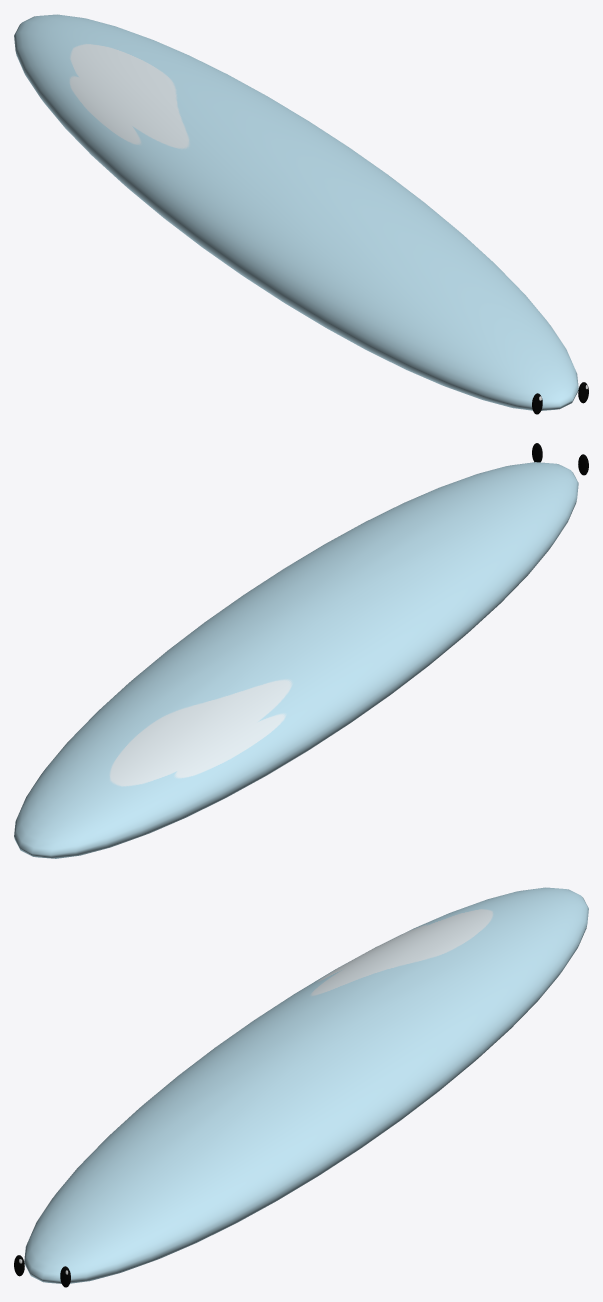
File: new_run.fbx
3 renders of one model, top to bottom at view 1: azimuth 30°, elevation 25°; view 2: azimuth 150°, elevation 25°; view 3: azimuth 330°, elevation 25°, orthographic.
Visible parts, largest first — view 1: pCylinder3; view 2: pCylinder3; view 3: pCylinder3.
Boxes of the visible parts, bbox=[...] form: pCylinder3: bbox=[14, 14, 588, 414]; pCylinder3: bbox=[14, 443, 588, 858]; pCylinder3: bbox=[14, 887, 588, 1287].
Size of the model in its own units: 2.65 by 0.9068 by 12.19.
1 material, 1 textured.
